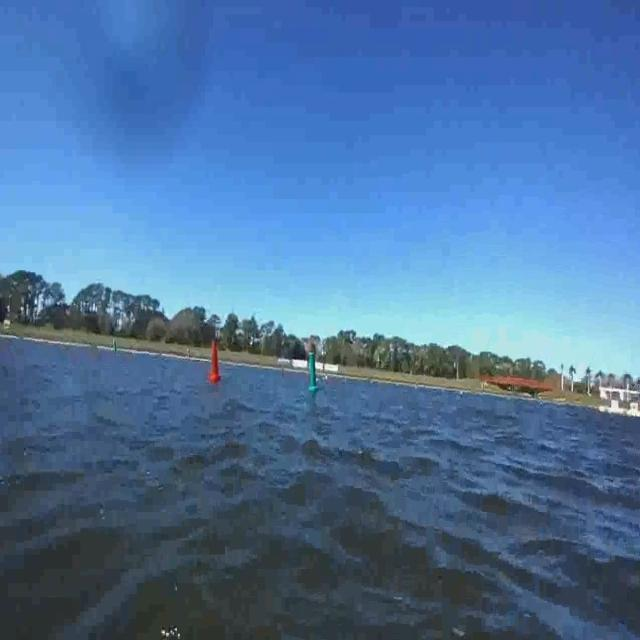green-column-buoy: (304, 340, 320, 401)
red-column-buoy: (202, 328, 223, 387)
